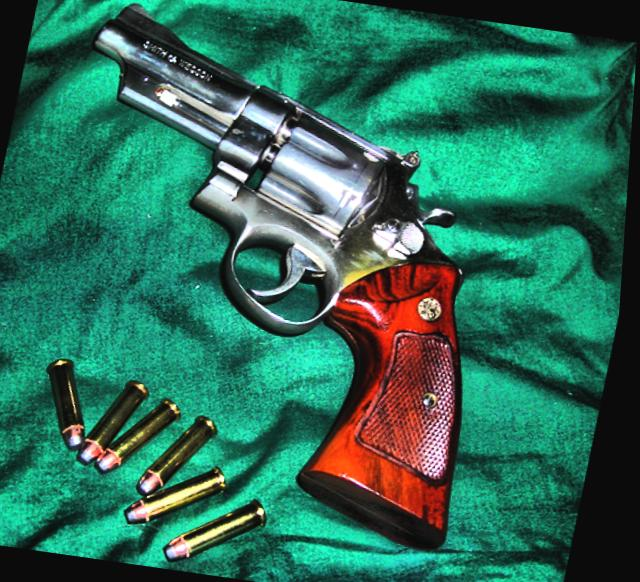pistol: (4, 1, 547, 550)
